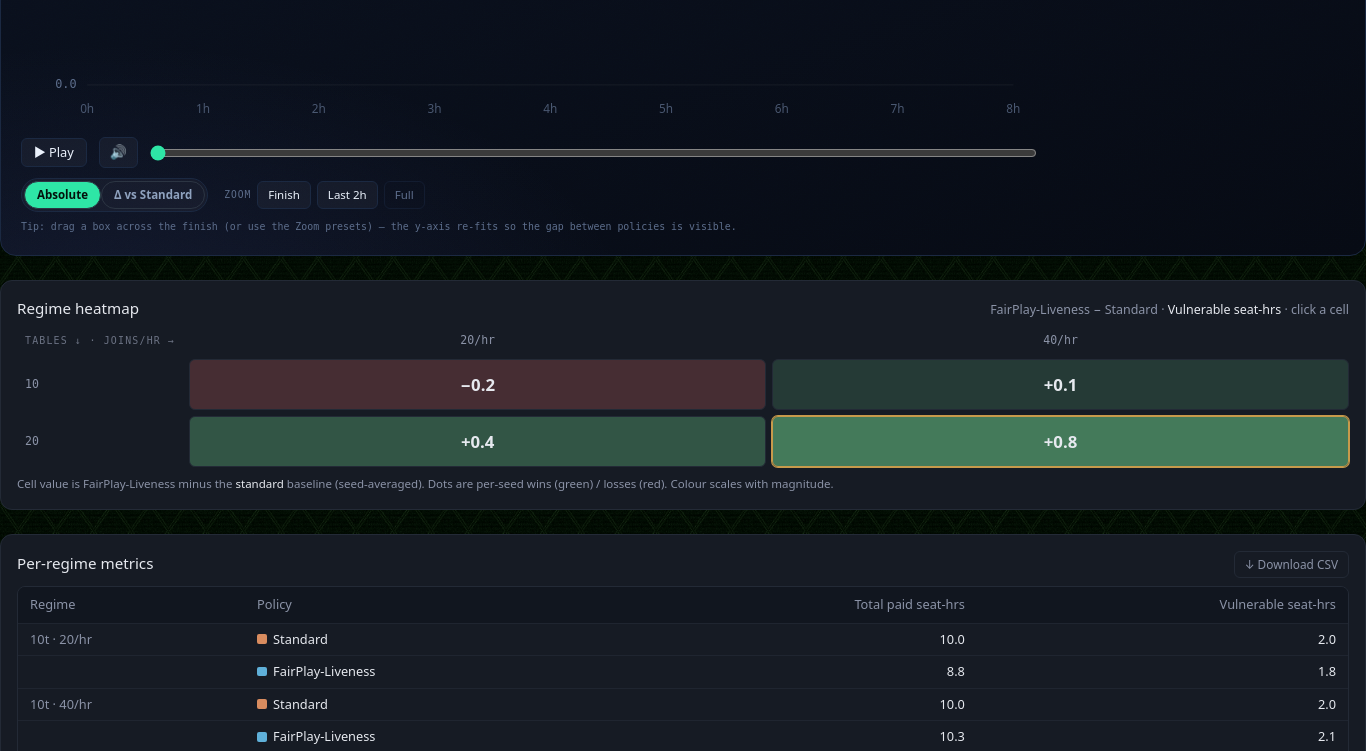
it: DashboardView render › shows the descriptive departures panel for the selected regime and follows selection
(page scrolled)
// selecting another regime re-points the panel
Step 1. Click the button titled "10 tables · 20/hr" → (478,384), box [189,359,766,410]
(page scrolled)
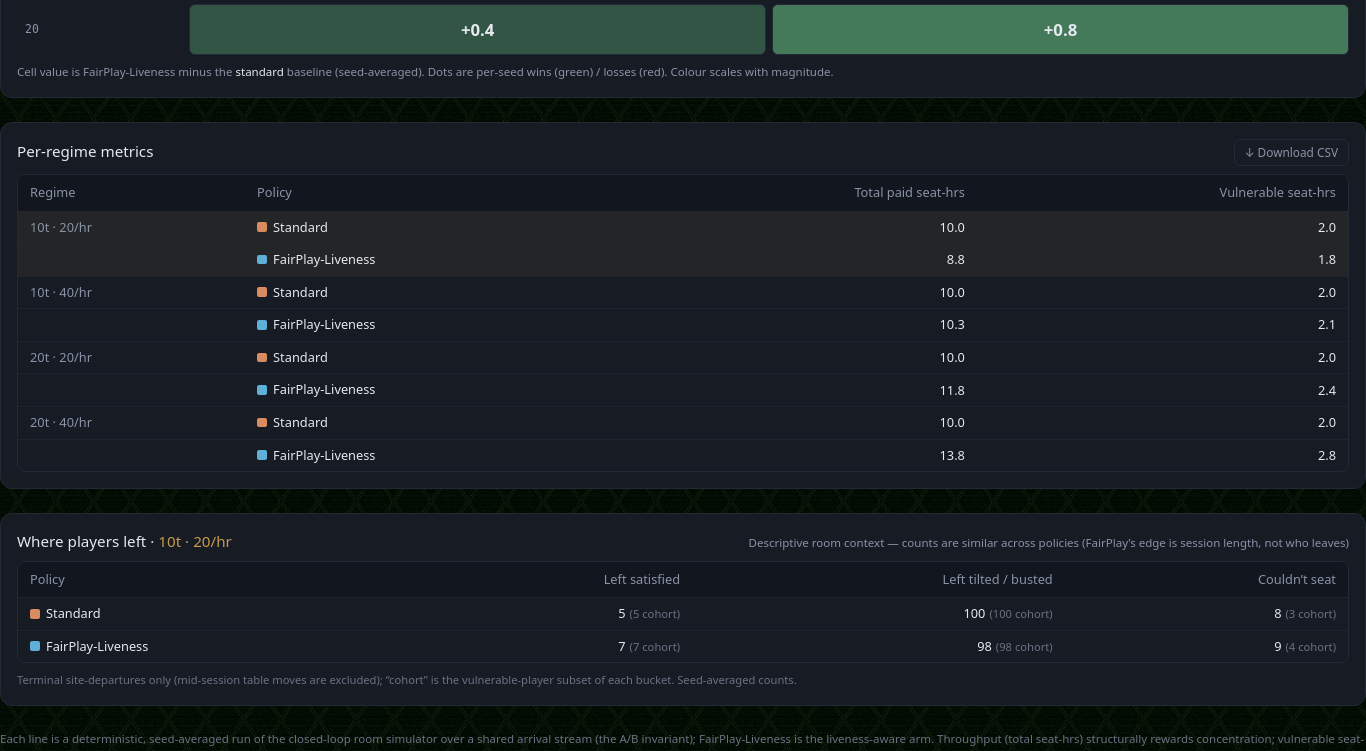
Expected: the heading "Where players left · 10t · 20/hr" is shown, [17,530,232,553]
